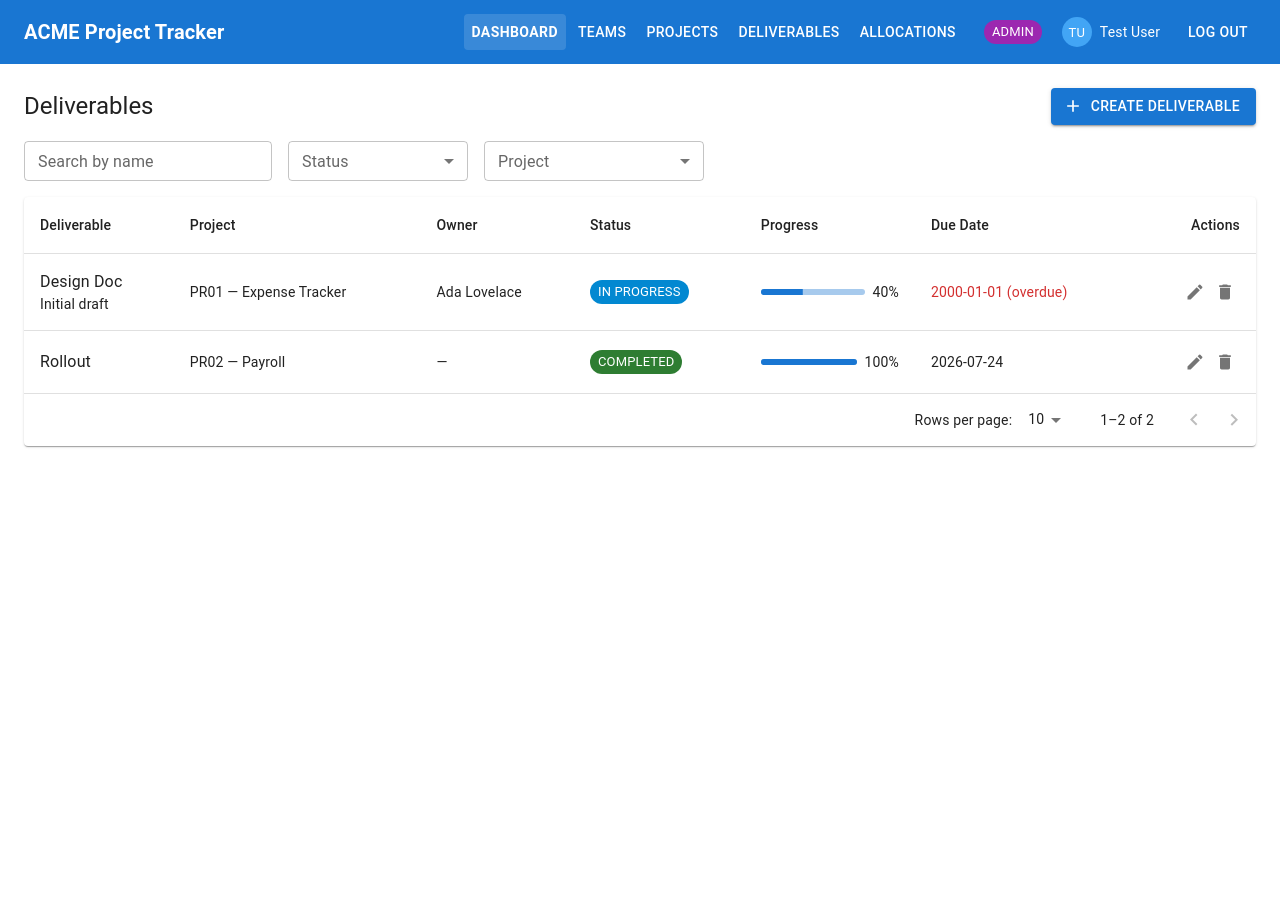
Test case: delete flow › shows the backend error inside the confirm dialog when delete fails
Expected: the text "Design Doc" is shown, [40,272,122,290]
Click the 4th button: (1225, 292) [1210,276,1240,306]
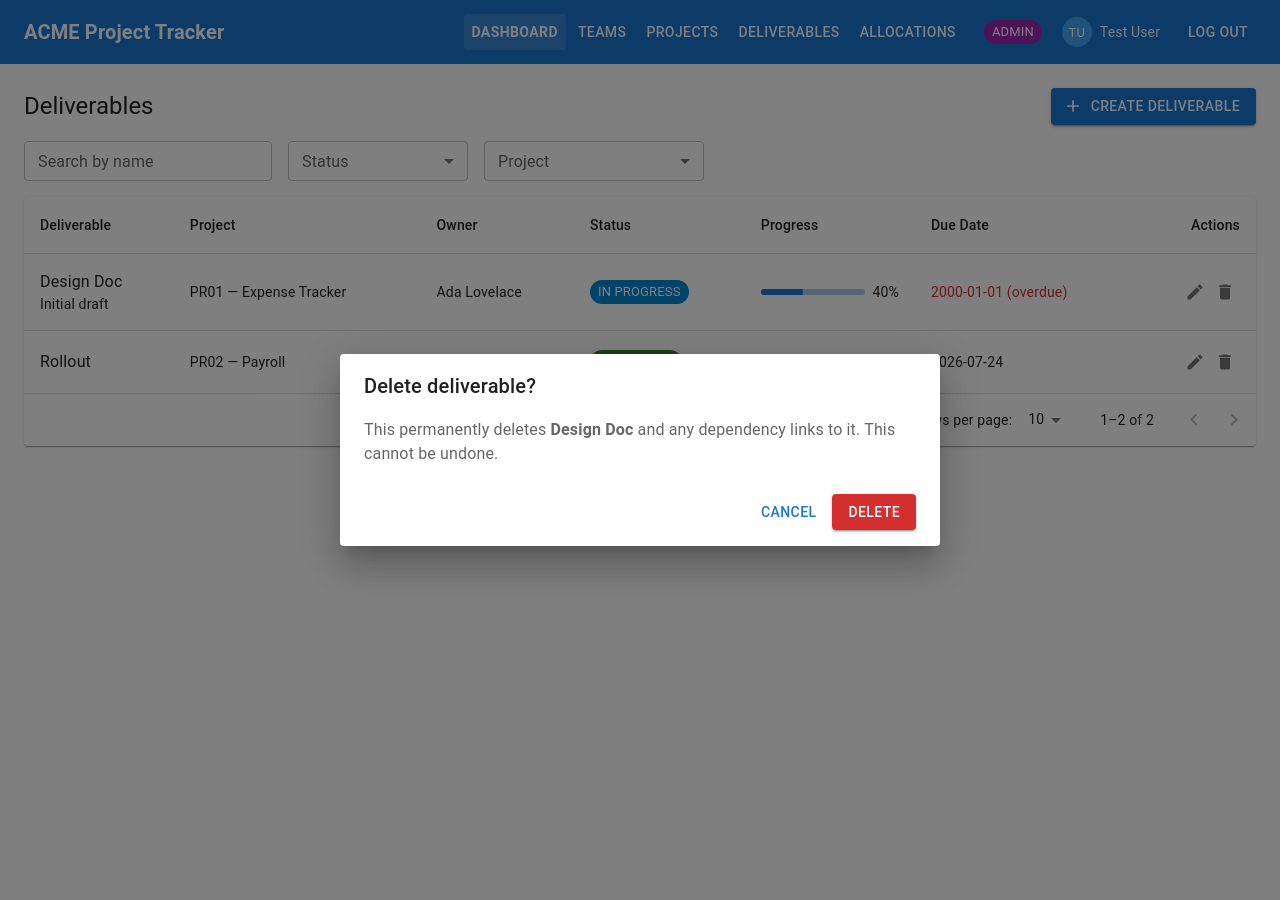
Click the button "Delete": (874, 512) [832,494,916,530]
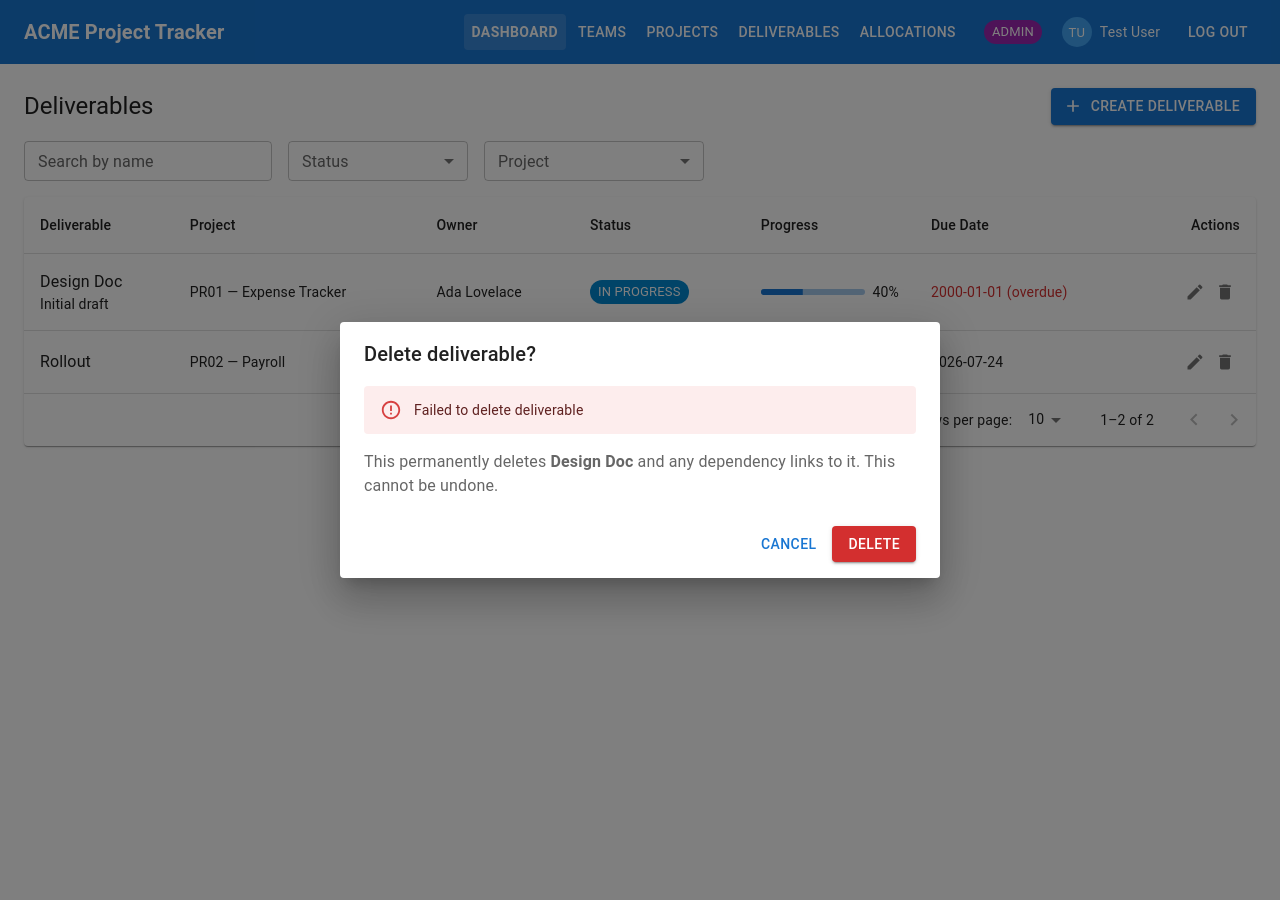
Result: the text "Failed to delete deliverable" is shown at [414,402,584,418]
